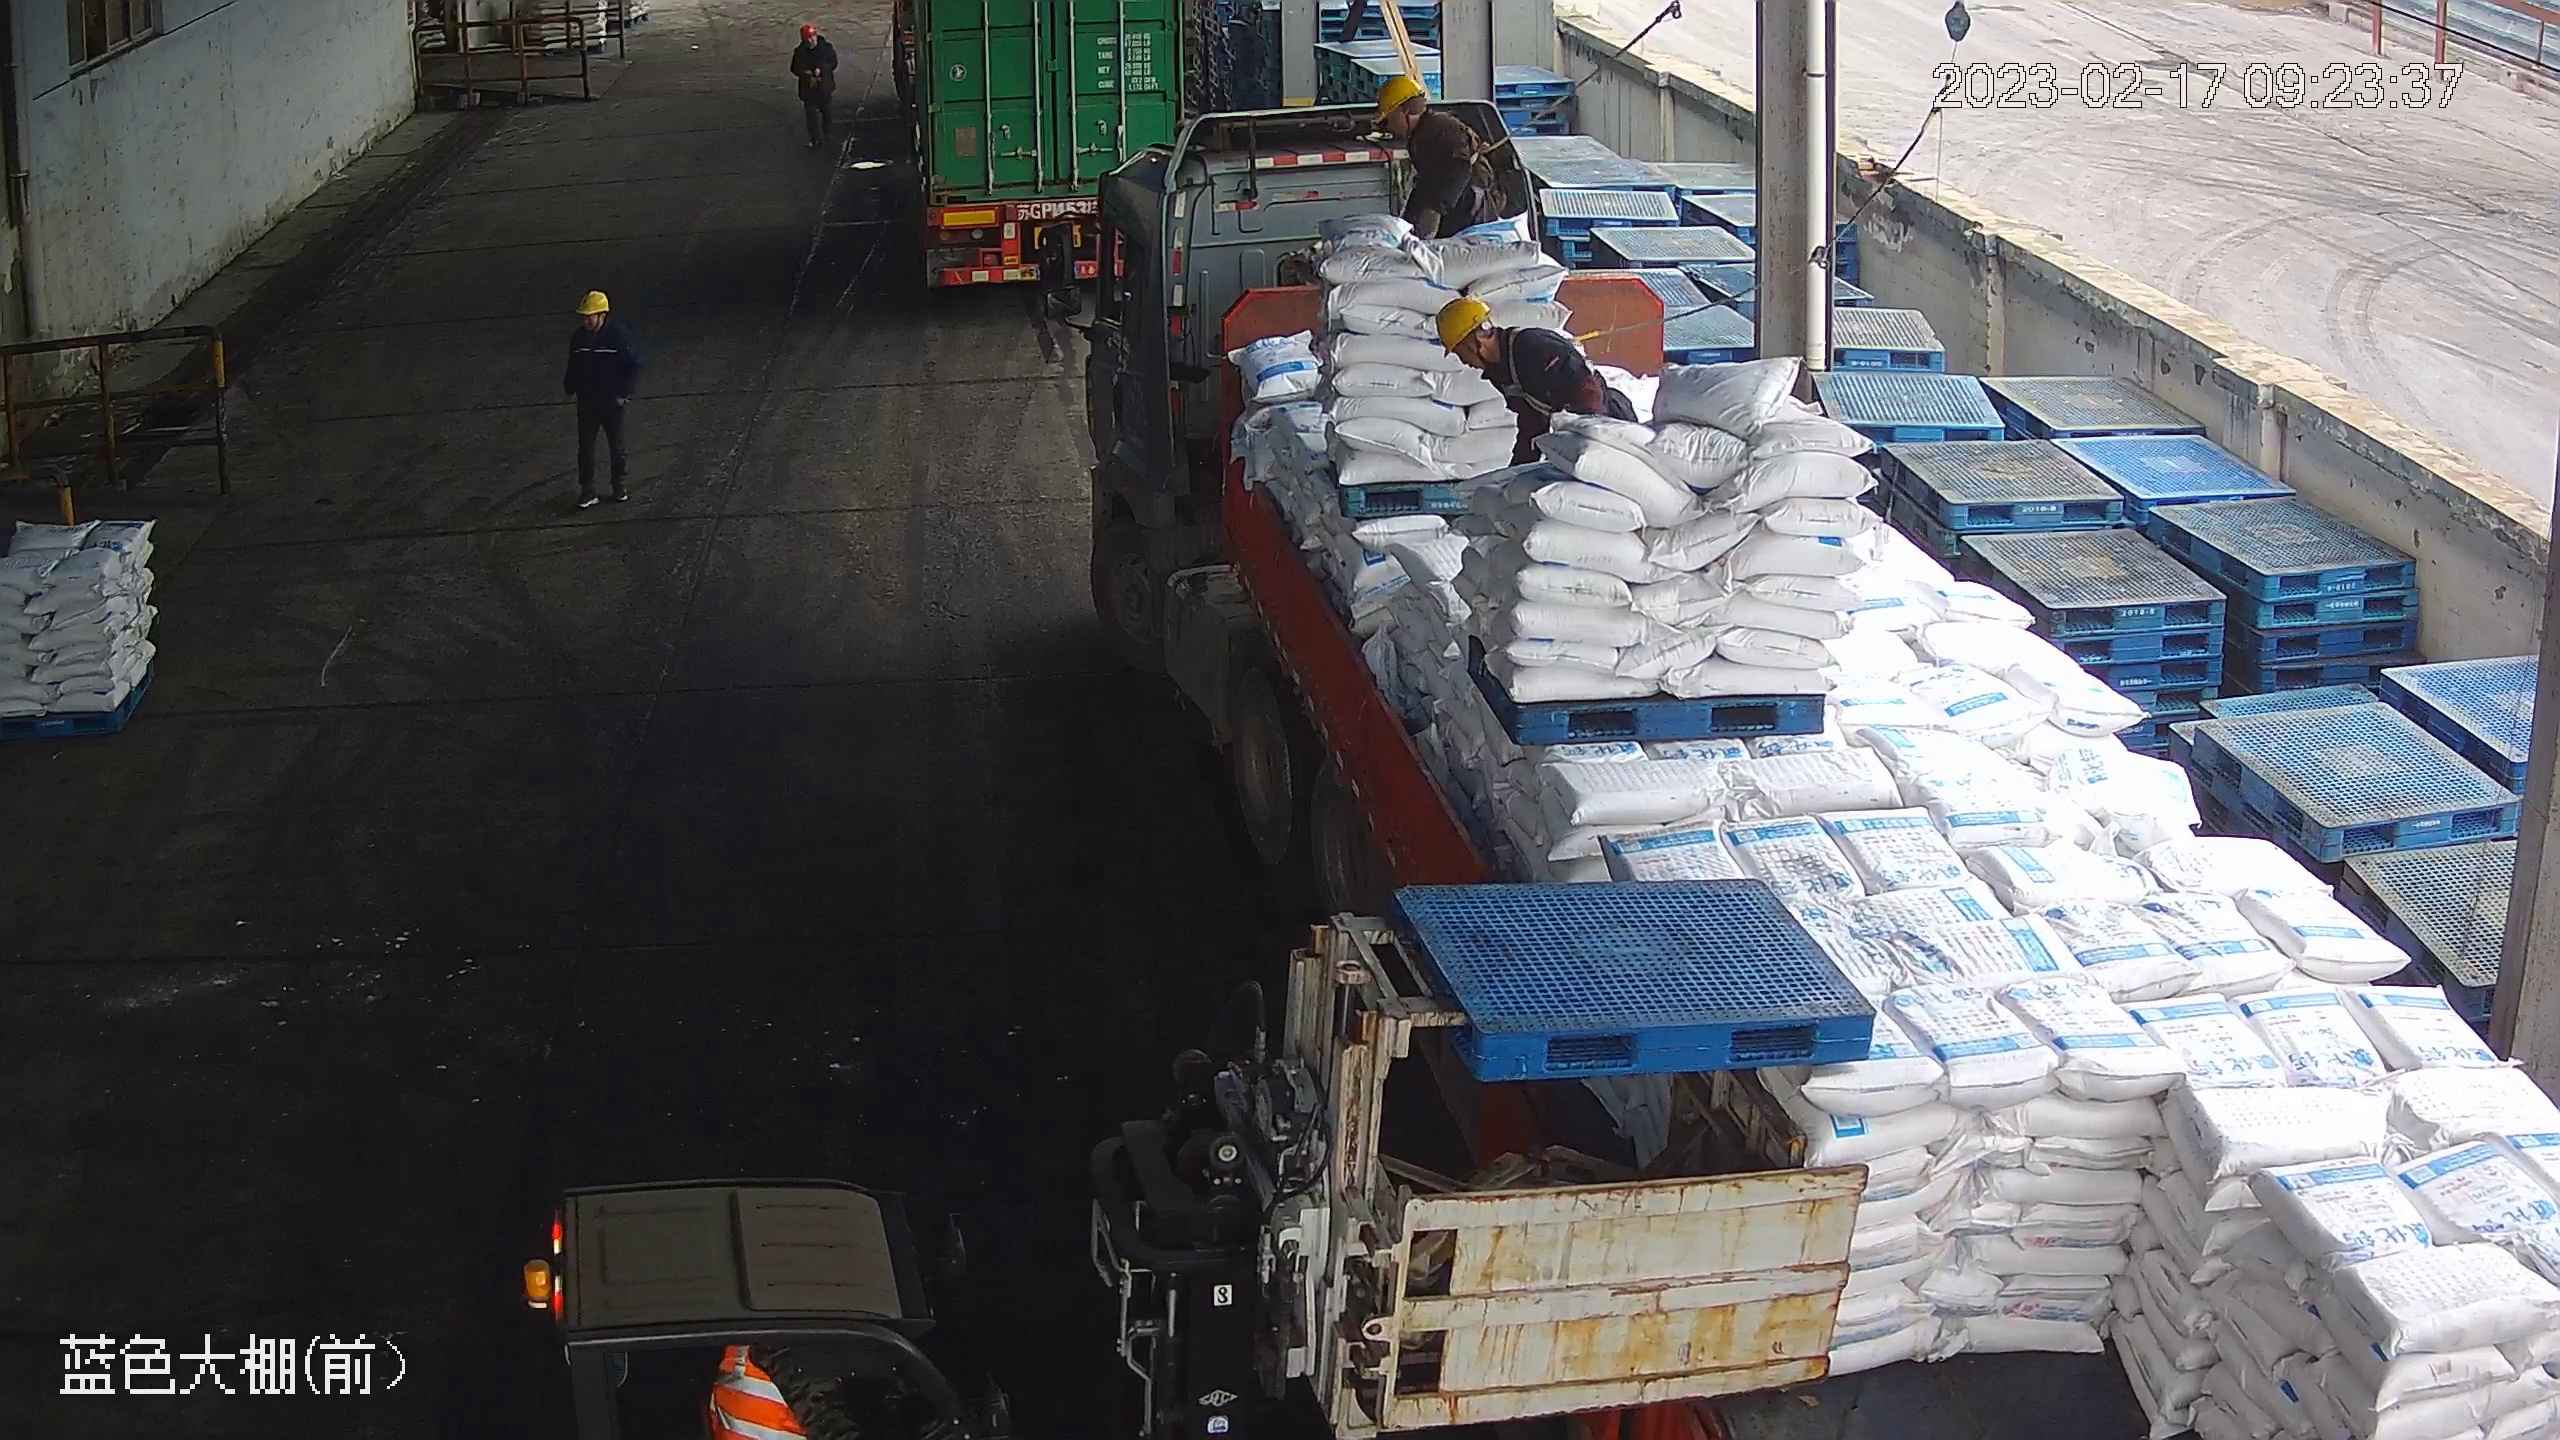belt: (1488, 324, 1575, 391), (1434, 105, 1497, 162)
head: (1435, 294, 1549, 380), (1373, 76, 1467, 153), (565, 289, 632, 368), (795, 20, 831, 54)
helmet: (1436, 293, 1492, 354), (1374, 74, 1424, 120), (577, 287, 609, 316), (800, 20, 818, 34)
people: (1432, 293, 1625, 476), (1375, 76, 1488, 257), (558, 286, 642, 508), (791, 18, 838, 148)
truck: (1038, 97, 2559, 1440), (896, 1, 1177, 290)
